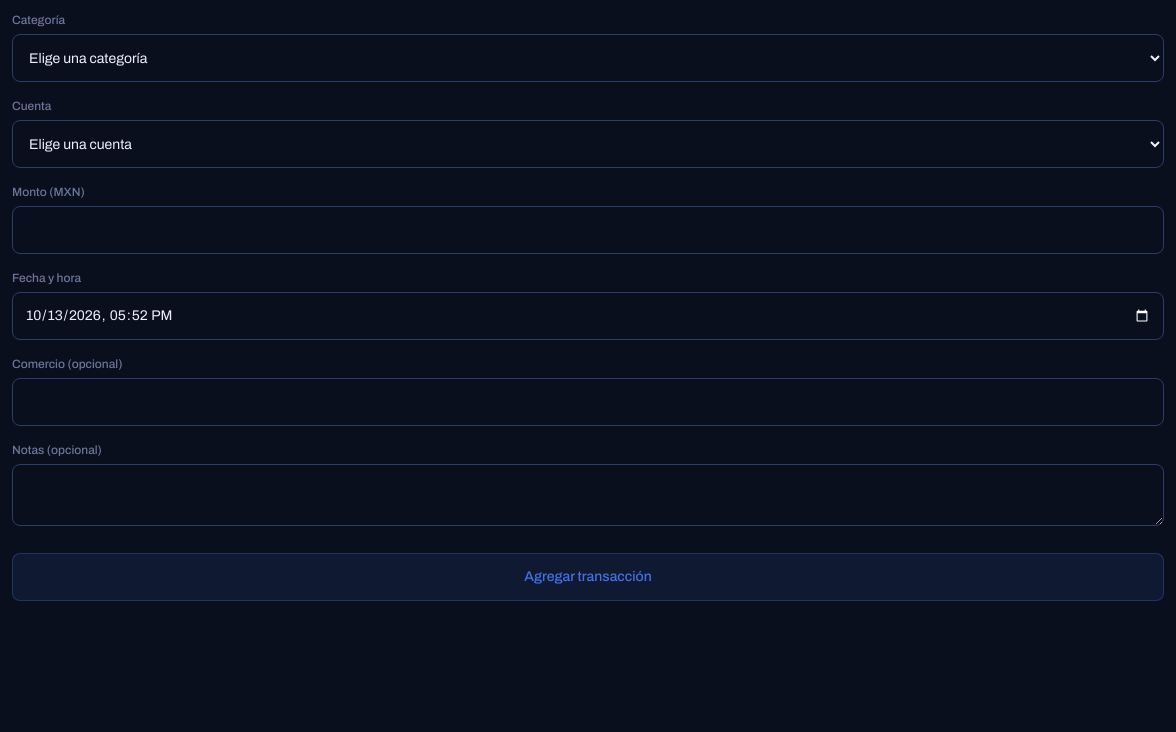
Scenario: TransactionForm currency handling › shows no exchange-rate field for a base-currency account
Select "Efectivo (MXN)" in the dropdown labelled "Cuenta" at (588, 144), box x1=12 y1=120 x2=1164 y2=168
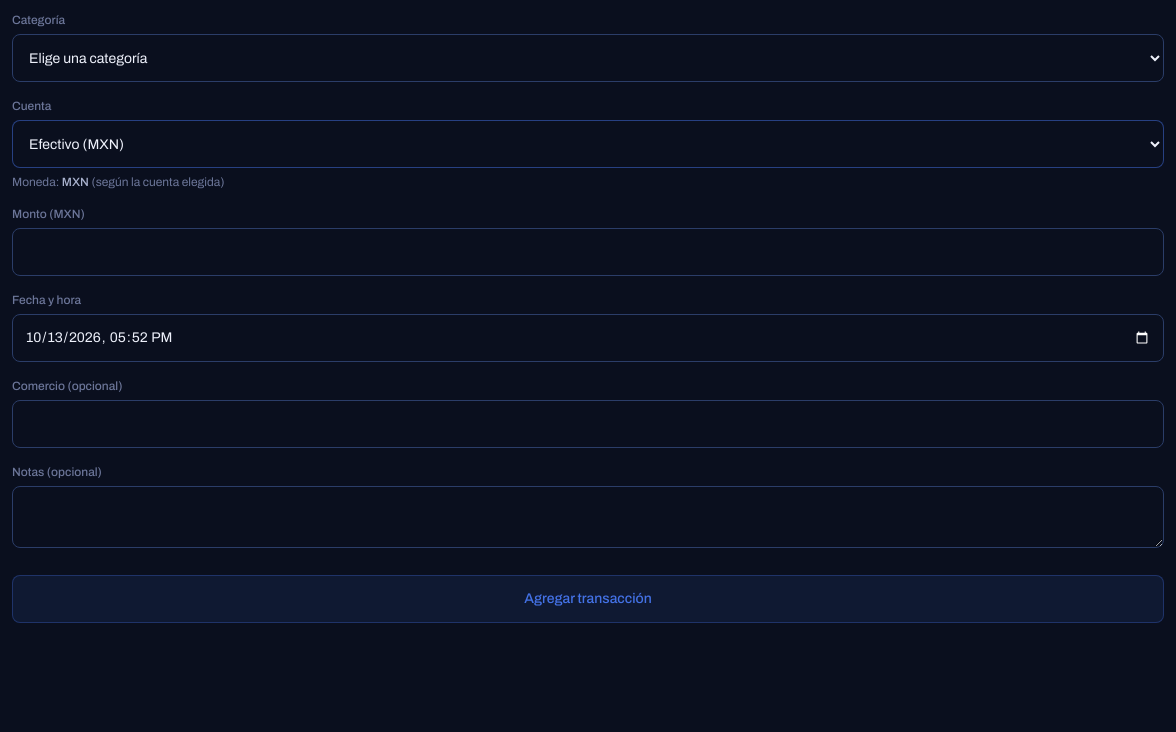
Now the text "MXN" is shown, box x1=62 y1=175 x2=89 y2=189
